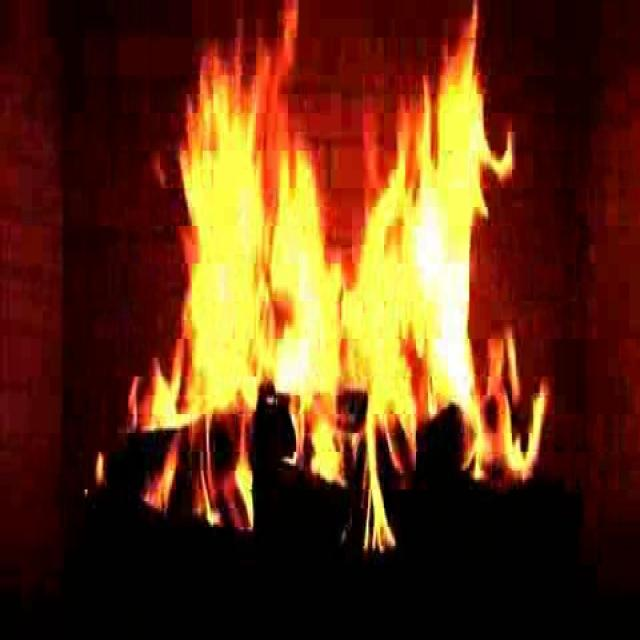Fire: (105, 0, 582, 567)
